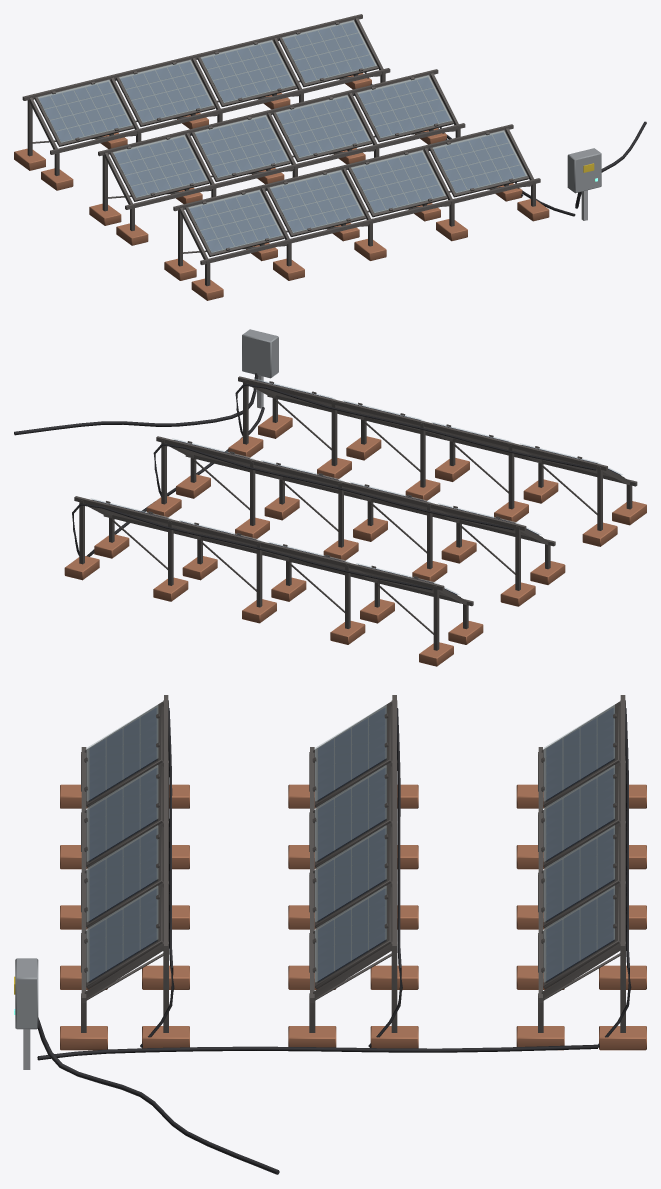
File: bs_solar.glb
The picture shows the model from 3 angles, top to bottom: view 1: azimuth 30°, elevation 25°; view 2: azimuth 150°, elevation 25°; view 3: azimuth 270°, elevation 25°; orthographic projection. The views are drawn at different scales.
Parts seen in each view (by area): view 1: bs_solar_mesh; view 2: bs_solar_mesh; view 3: bs_solar_mesh.
Boxes of the visible parts, x1,y1,x2,y2 form: bs_solar_mesh: [14, 14, 646, 300]; bs_solar_mesh: [14, 329, 646, 666]; bs_solar_mesh: [14, 695, 646, 1174].
Bounding box in the file's own units: 7.85 × 1.02 × 5.54.
